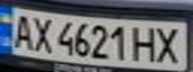1: (109, 22, 130, 61)
2: (90, 21, 112, 61)
4: (54, 18, 75, 56)
6: (72, 20, 93, 58)
A: (6, 11, 36, 51)
H: (130, 24, 160, 63)
X: (151, 24, 187, 65), (27, 15, 57, 53)
